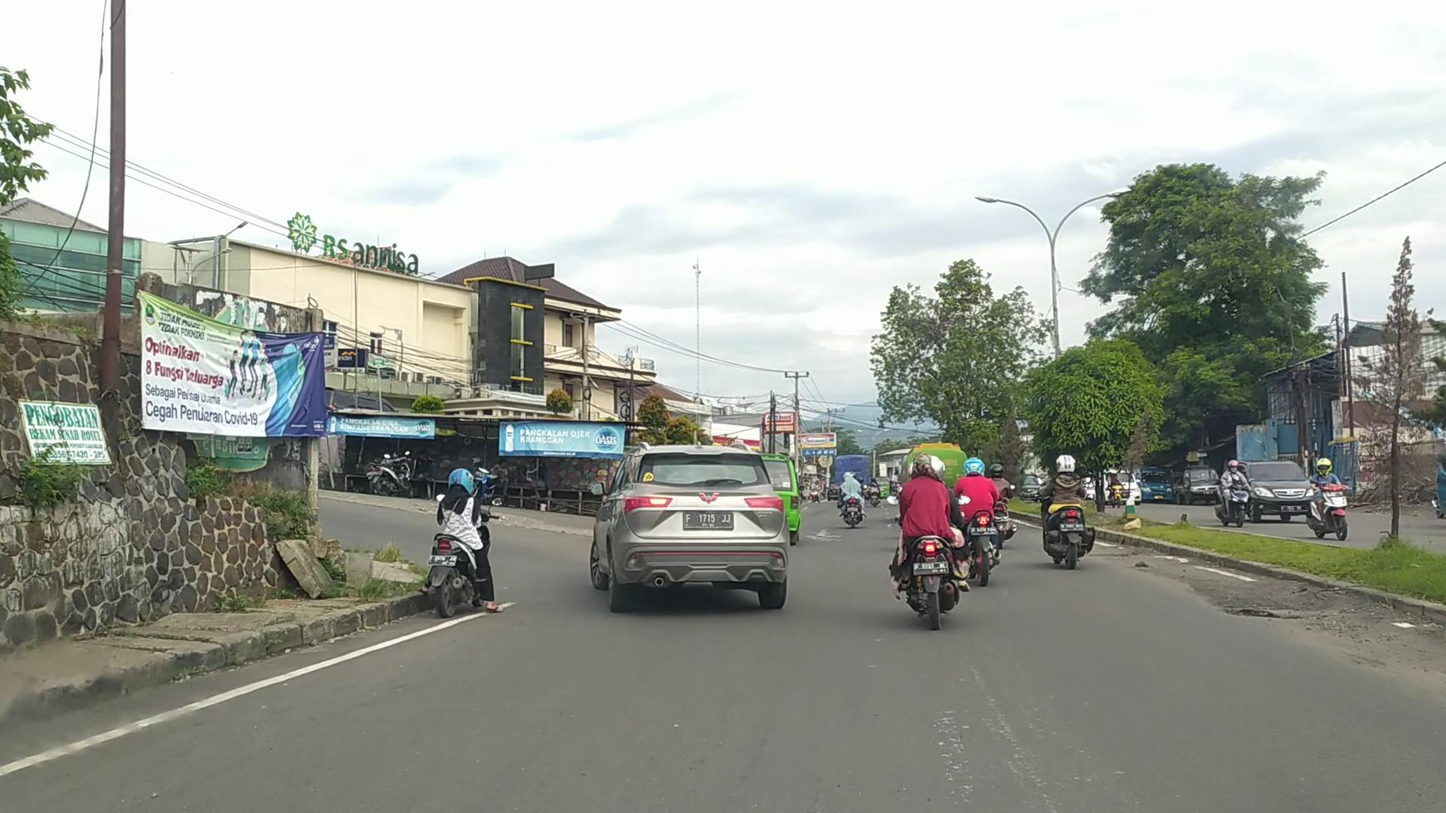pothole: (1227, 607, 1296, 618)
